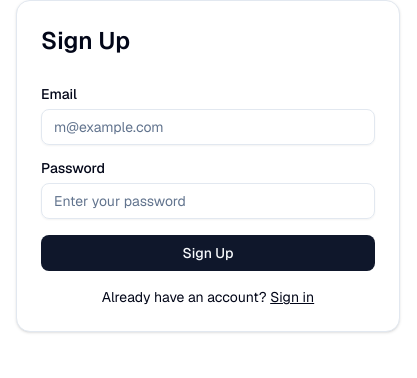
Scenario: SignupForm › when user enters invalid data › should validate email format
# Enter invalid email
Step 1. Type "invalid-email" into the field labelled "Email" → (208, 127), box [41,109,375,145]
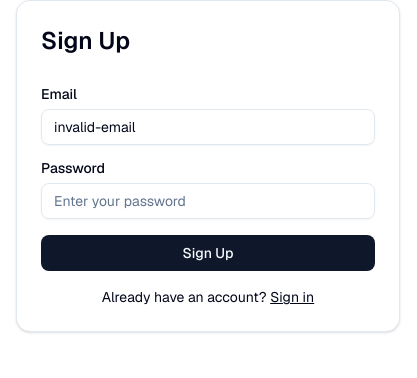
Step 2. Type "TestPassword123!" into the password field labelled "Password" → (208, 201), box [41,183,375,219]
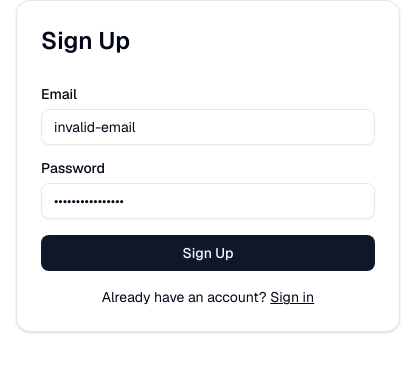
# Submit form
Step 3. Click the button "Sign Up" → (208, 253), box [41,235,375,271]
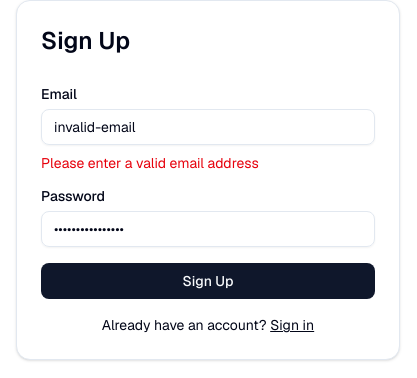
Expected: the text "Please enter a valid email address" is shown, [41,154,259,172]
